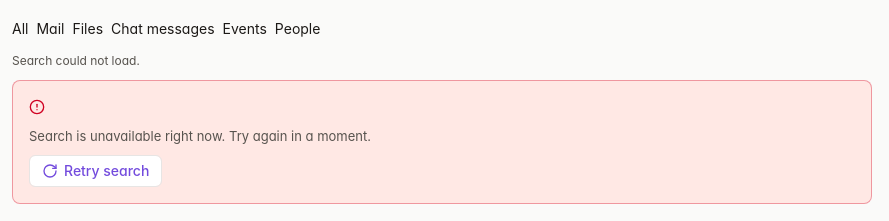
Test: SearchResultsShell › explains a failed search and retries it
Expected: the message "Search is unavailable right now. Try again in a moment. Retry search" is shown, [12, 80, 872, 204]
Click the button "Retry search". click: point(96, 170)
box: [29, 154, 162, 186]
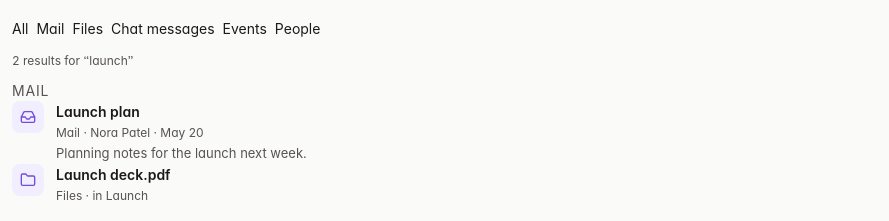
Now the text "Launch plan" is shown, box [56, 103, 140, 120]
